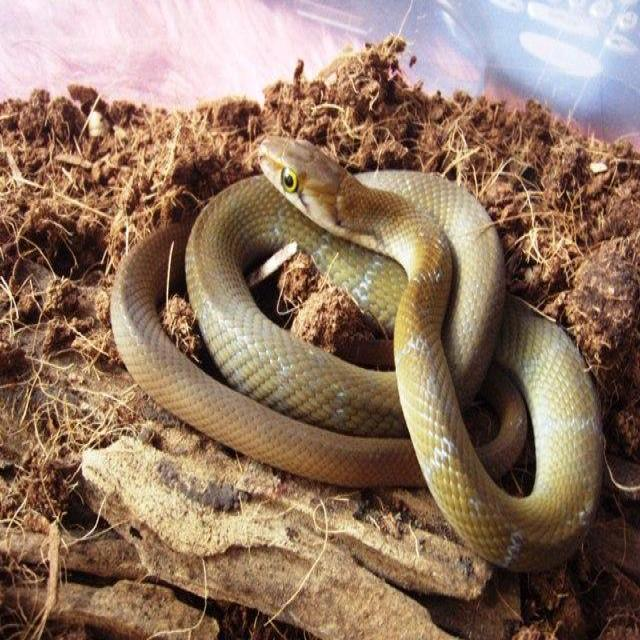Snake: (109, 132, 605, 573)
